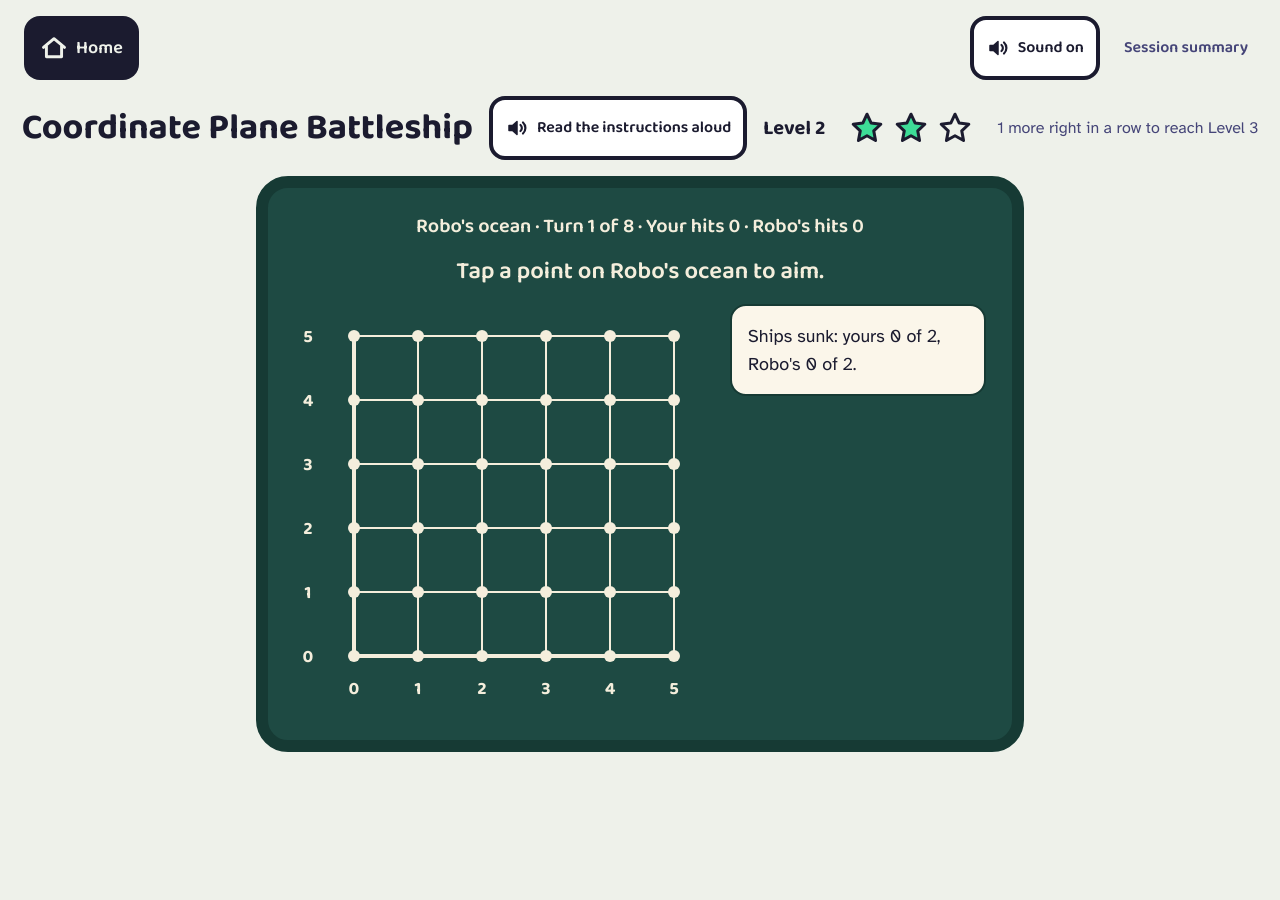
Test: a move that fails to send says so
The width and height of the screenshot is (1280, 900).
Click the button named "Point (3, 5)" at (546, 336), box [514,304,578,368]
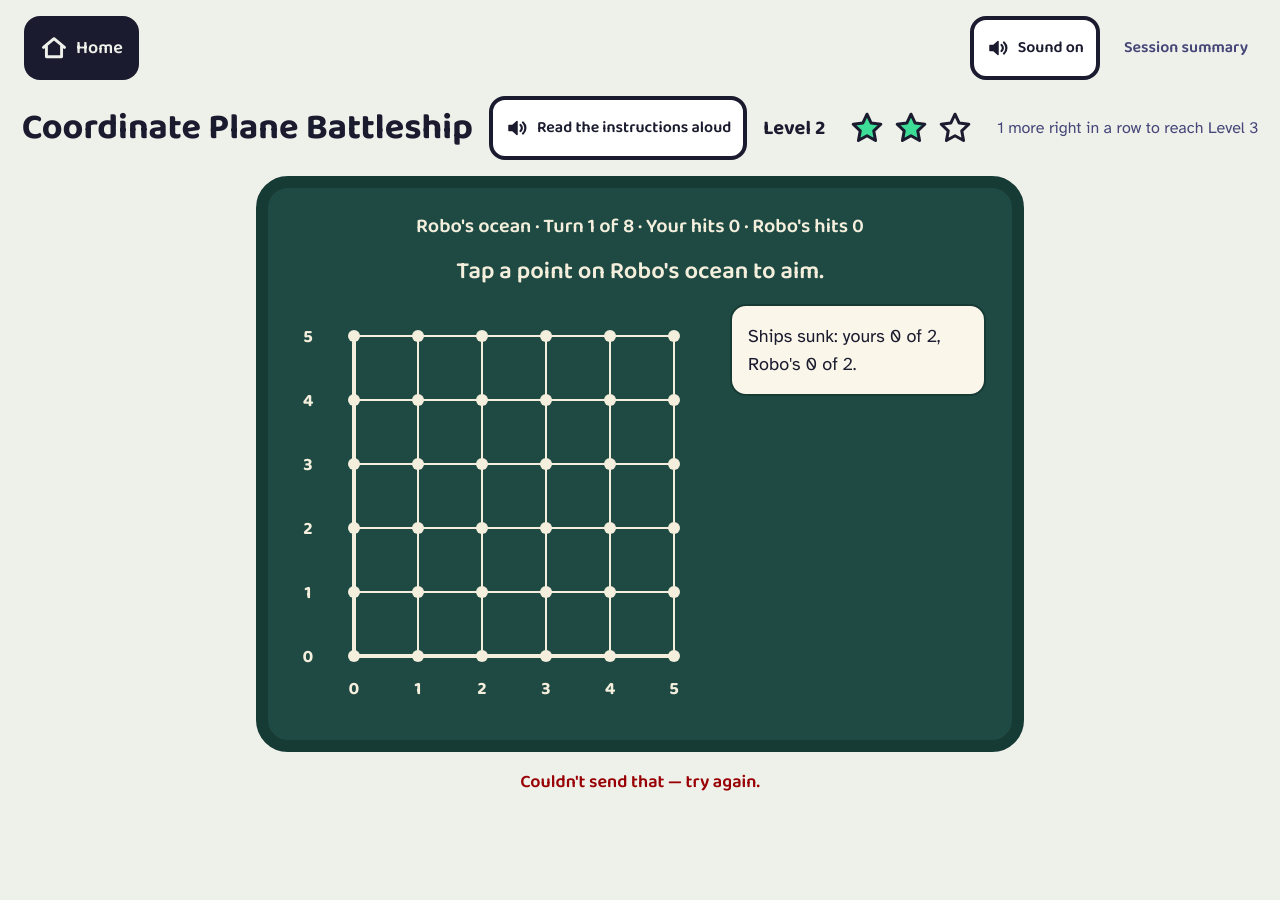
Result: the text "Couldn't send that — try again." is shown at [520,768,760,796]
